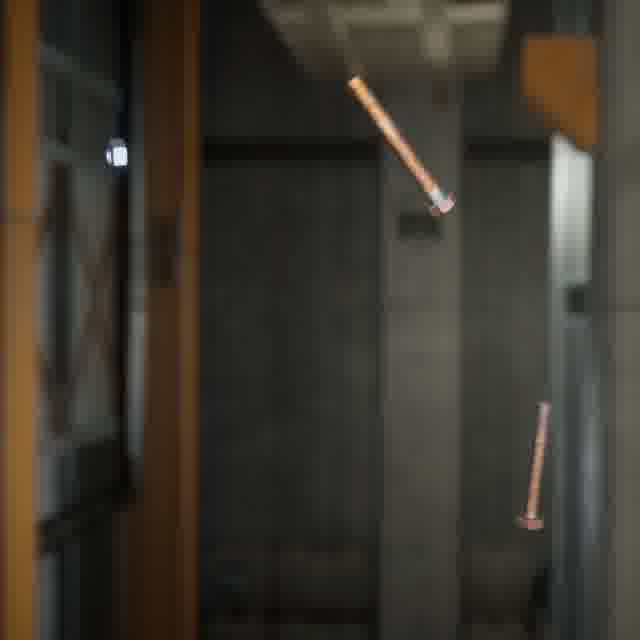bolt: (342, 71, 461, 221), (512, 395, 556, 534)
nut: (100, 133, 132, 177)
